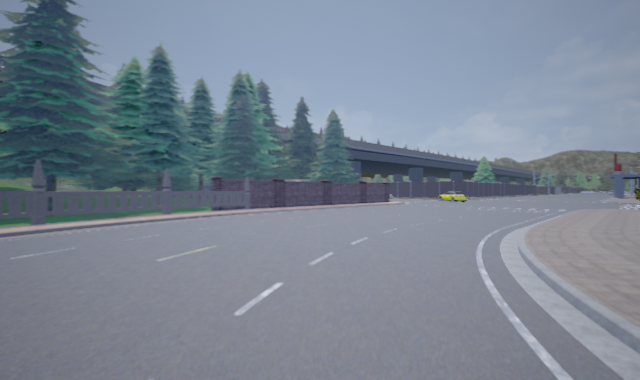vehicle: (439, 191, 466, 203)
